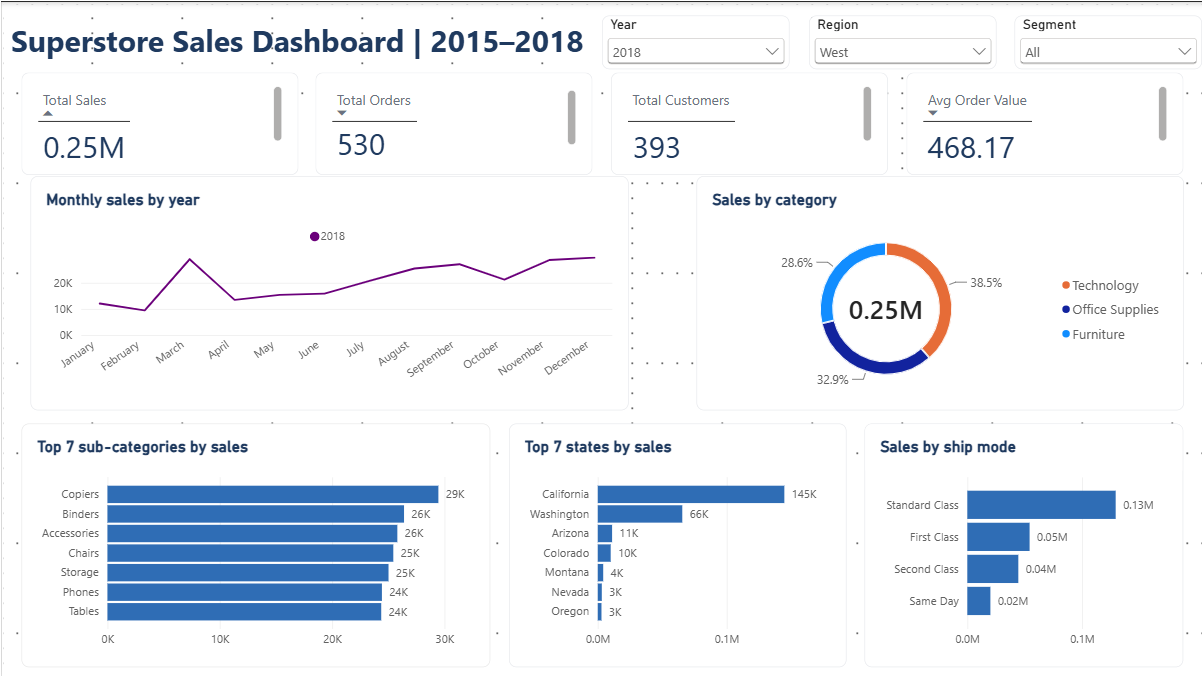

This screenshot's page, from the dashboard's own definition file:
{"tool":"powerbi","page":{"name":"Page 1","canvas":[1280,720],"ordinal":0},"visuals":[{"type":"textbox","box":[10,0,800,68],"z":0},{"type":"tableEx","fields":{"Values":["Orders.Total Sales"]},"box":[20,75,295,109],"z":1000},{"type":"tableEx","fields":{"Values":["Orders.Avg Order Value"]},"box":[965,75,295,109],"z":2000},{"type":"tableEx","fields":{"Values":["Orders.Total Customers"]},"box":[650,75,295,109],"z":3000},{"type":"tableEx","fields":{"Values":["Orders.Total Orders"]},"box":[335,75,295,109],"z":4000},{"type":"slicer","fields":{"Values":["Orders.Year"]},"box":[640,15,200,57.5],"z":5000},{"type":"slicer","fields":{"Values":["Orders.Segment"]},"box":[1080,15,200,57.5],"z":6000},{"type":"slicer","fields":{"Values":["Orders.Region"]},"box":[860,15,200,57.5],"z":7000},{"type":"lineChart","title":"Monthly sales by year","fields":{"Category":["Orders.Month Name"],"Series":["Orders.Year"],"Y":["Orders.Total Sales"]},"box":[30,185,638,250],"z":8000},{"type":"donutChart","title":"Sales by category","fields":{"Category":["Orders.Category"],"Y":["Orders.Total Sales"]},"box":[740,185,520,250],"z":9000},{"type":"clusteredBarChart","title":"Top 7 sub-categories by sales","fields":{"Category":["Orders.Sub-Category"],"Y":["Orders.Total Sales"]},"box":[20,450,500,260],"z":10000},{"type":"clusteredBarChart","title":"Top 7 states by sales","fields":{"Category":["Orders.State"],"Y":["Orders.Total Sales"]},"box":[540,450,360,260],"z":11000},{"type":"clusteredBarChart","title":"Sales by ship mode","fields":{"Category":["Orders.Ship Mode"],"Y":["Orders.Total Sales"]},"box":[920,450,340,260],"z":12000}]}

Visuals, with their boxes in screenshot pixels (x1, y1, x2, y2), scaled from the page's 1280x720 canvas onto the 1203x677 screenshot:
textbox: 9, 0, 761, 64
tableEx - Orders.Total Sales: 19, 71, 296, 173
tableEx - Orders.Avg Order Value: 907, 71, 1184, 173
tableEx - Orders.Total Customers: 611, 71, 888, 173
tableEx - Orders.Total Orders: 315, 71, 592, 173
slicer - Orders.Year: 602, 14, 789, 68
slicer - Orders.Segment: 1015, 14, 1202, 68
slicer - Orders.Region: 808, 14, 996, 68
"Monthly sales by year" lineChart: 28, 174, 628, 409
"Sales by category" donutChart: 695, 174, 1184, 409
"Top 7 sub-categories by sales" clusteredBarChart: 19, 423, 489, 668
"Top 7 states by sales" clusteredBarChart: 508, 423, 846, 668
"Sales by ship mode" clusteredBarChart: 865, 423, 1184, 668
